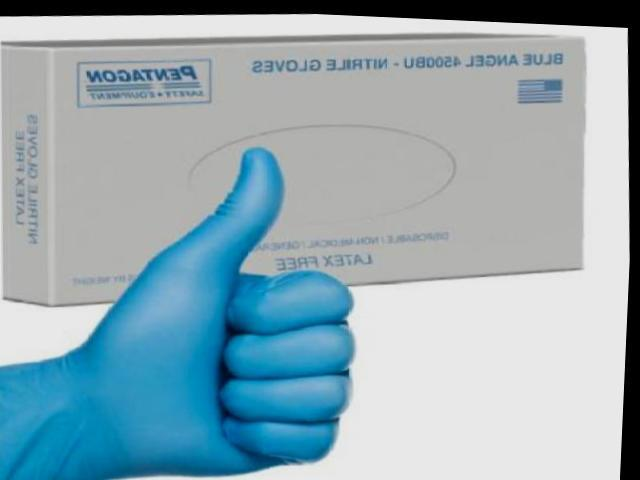Hand-in-Glove: (0, 117, 382, 480)
